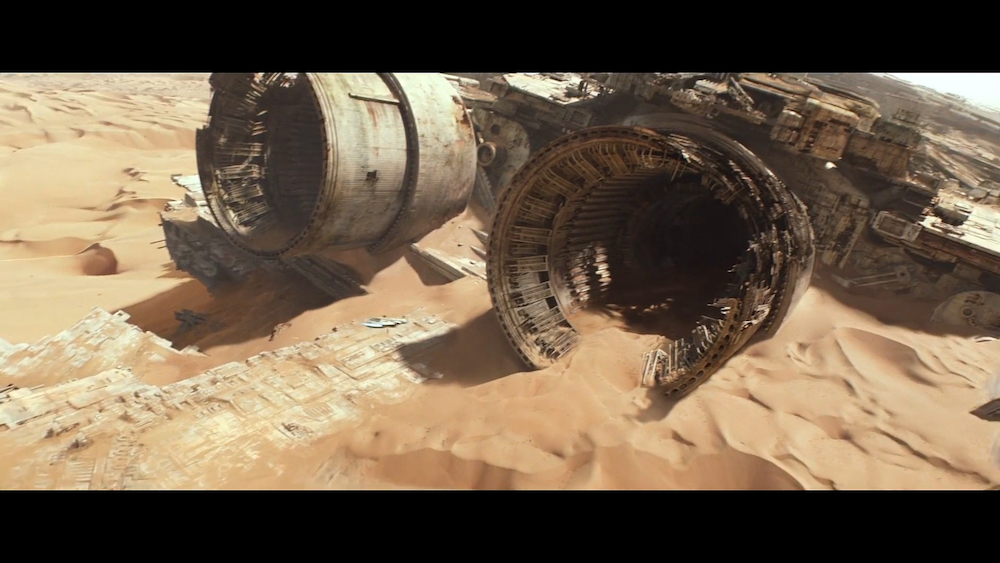Millennium Falcon: (362, 317, 409, 330)
